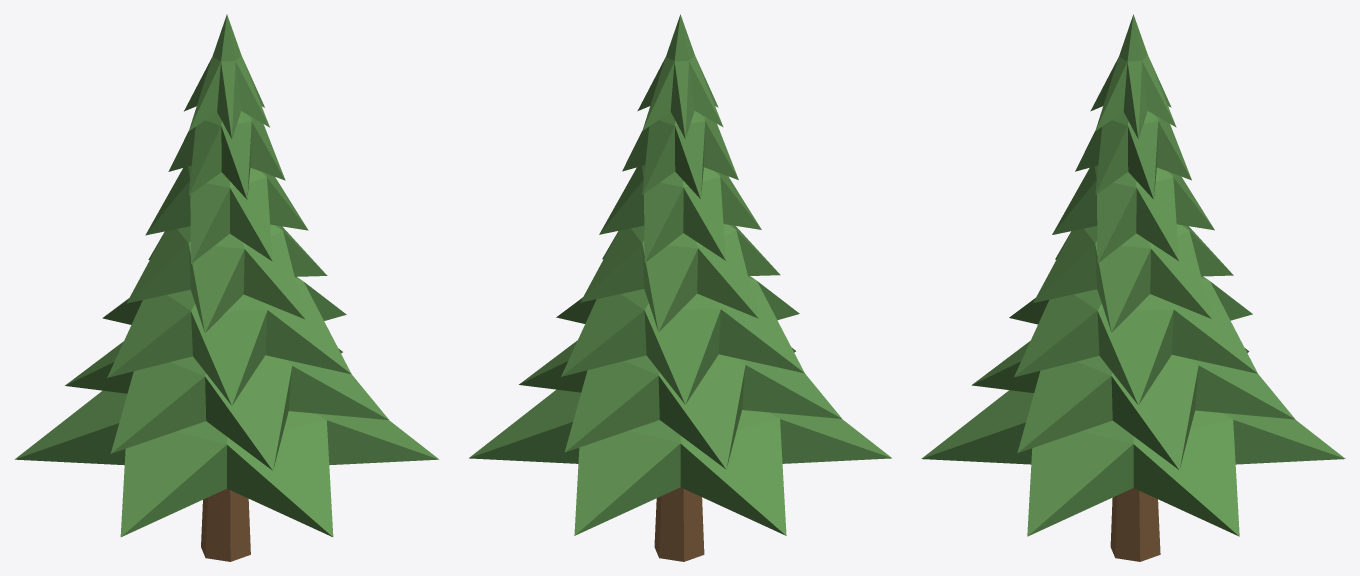
File: tree3d-089.glb
3 renders of one model, left to right at view 1: azimuth 30°, elevation 25°; view 2: azimuth 150°, elevation 25°; view 3: azimuth 270°, elevation 25°, orthographic.
Parts seen in each view (by area): view 1: tree3d-089; view 2: tree3d-089; view 3: tree3d-089.
Boxes of the visible parts, bbox=[...] form: tree3d-089: bbox=[15, 14, 438, 561]; tree3d-089: bbox=[469, 14, 891, 561]; tree3d-089: bbox=[921, 14, 1345, 561].
Bounding box in the file's own units: 0.621 × 1 × 0.7171.
